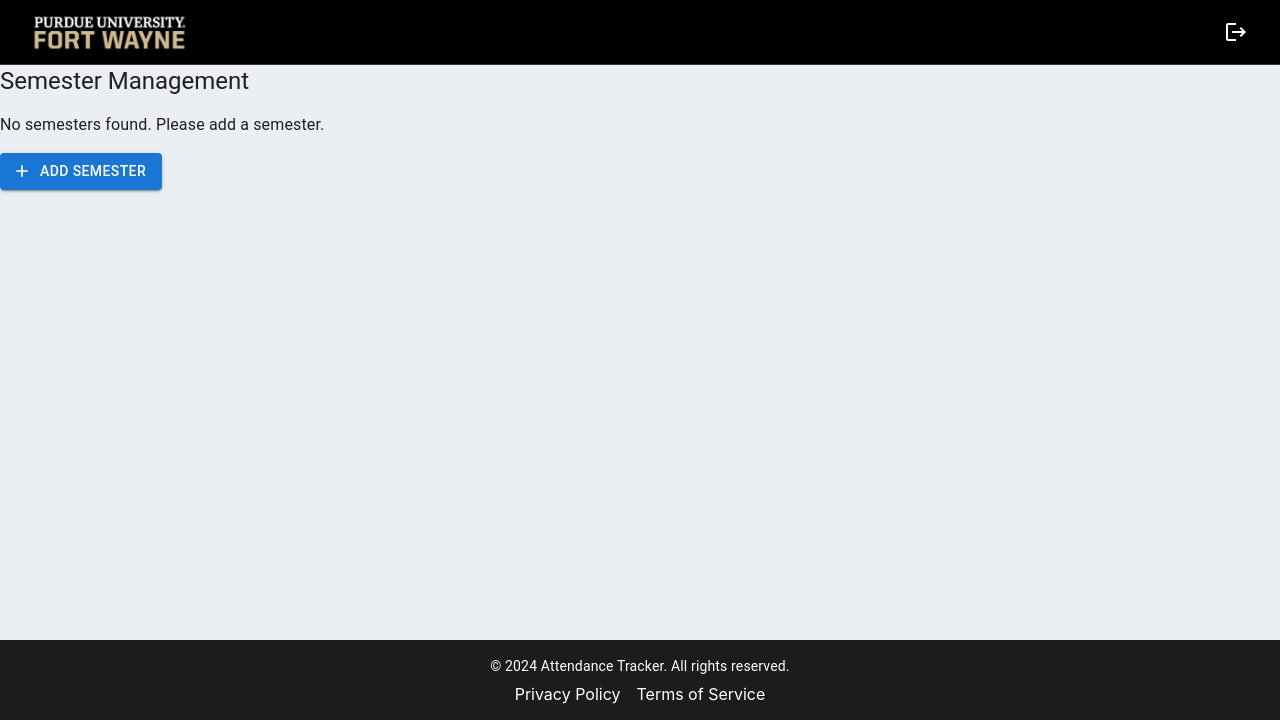
Test: Semester Management › should open the add semester pop-up when clicking the 'Add Semester' button
The width and height of the screenshot is (1280, 720).
Click the button "Add Semester": (81, 172) [0,153,162,190]
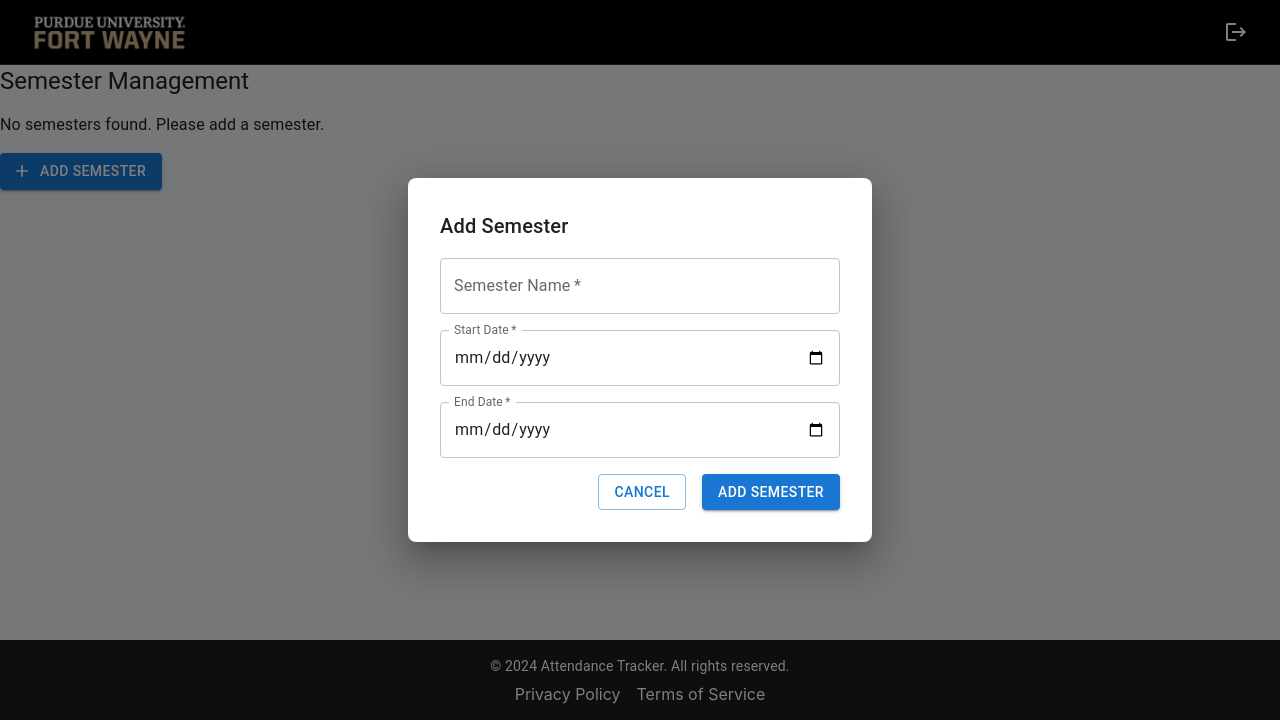
Check: the element that starts with "Add Semester" is shown
